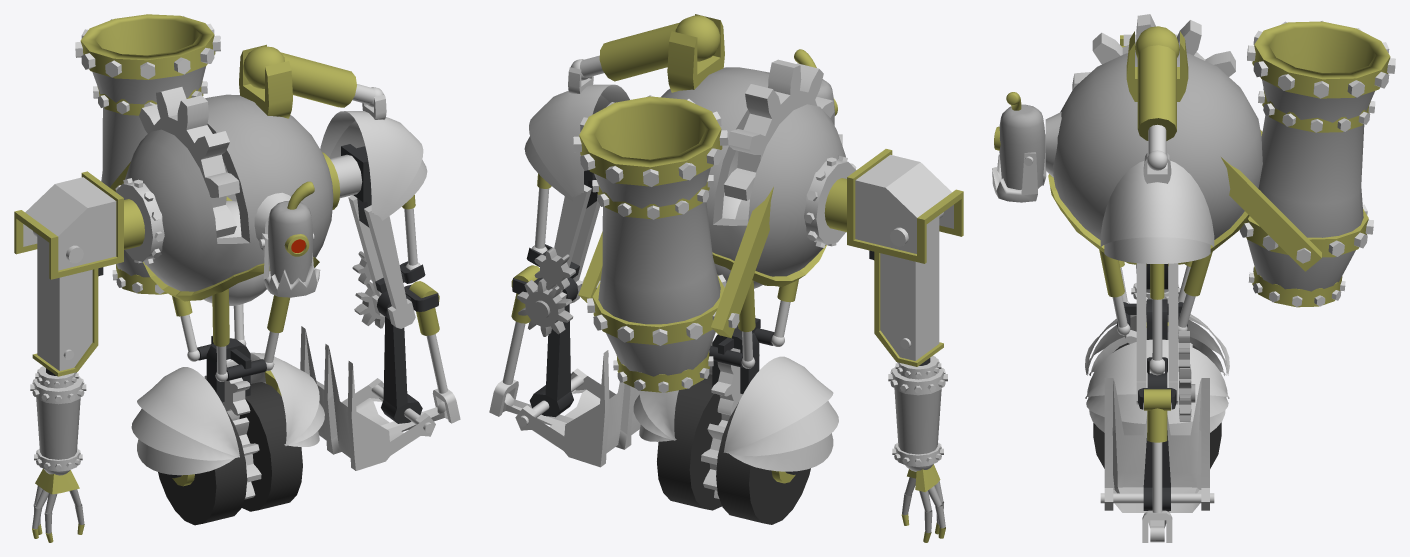
The model's file is Excavator.fbx.
The picture shows the model from 3 angles, left to right: view 1: azimuth 30°, elevation 25°; view 2: azimuth 150°, elevation 25°; view 3: azimuth 270°, elevation 25°; orthographic projection. The views are drawn at different scales.
Visible parts, largest first — view 1: polySurface1, pCylinder9 (×3), pSphere3 (×2), polySurface4, pPlane3, pCylinder8, pPlane1, pCylinder15, pSphere8, pCylinder48, pCylinder28 (×3), pCylinder1 (+26 smaller); view 2: pCylinder48, pCylinder9 (×5), polySurface1, pSphere3 (×2), polySurface4, pPlane3, pCylinder8, pPlane1, pCylinder15, pSphere8, pCylinder1, pPlane6 (+23 smaller); view 3: polySurface1, pCylinder48, pCylinder9 (×4), polySurface4, pSphere8, pCylinder28 (×3), pSphere3 (×2), pCylinder49, pPlane6, pCube7, pSphere2 (×2), pSphere7 (+18 smaller).
Boxes of the visible parts, x1,y1,x2,y2 form: polySurface1: [125, 94, 333, 291]; pCylinder9 (×3): [80, 14, 215, 294]; pSphere3 (×2): [137, 352, 319, 457]; polySurface4: [300, 326, 448, 470]; pPlane3: [23, 177, 116, 270]; pCylinder8: [139, 87, 239, 238]; pPlane1: [37, 234, 92, 370]; pCylinder15: [239, 382, 302, 511]; pSphere8: [320, 111, 423, 216]; pCylinder48: [92, 66, 205, 277]; pCylinder28 (×3): [212, 52, 356, 346]; pCylinder1: [158, 411, 247, 525]; pCylinder48: [594, 167, 720, 376]; pCylinder9 (×5): [579, 96, 856, 392]; polySurface1: [661, 67, 845, 276]; pSphere3 (×2): [639, 341, 833, 452]; polySurface4: [502, 350, 640, 467]; pPlane3: [855, 154, 953, 253]; pCylinder8: [723, 59, 834, 219]; pPlane1: [880, 215, 939, 360]; pCylinder15: [657, 374, 721, 510]; pSphere8: [529, 84, 629, 197]; pCylinder1: [716, 402, 810, 524]; pPlane6: [578, 186, 773, 338]; polySurface1: [1053, 52, 1262, 239]; pCylinder48: [1247, 79, 1374, 291]; pCylinder9 (×4): [1245, 21, 1390, 307]; polySurface4: [1104, 378, 1209, 542]; pSphere8: [1100, 160, 1214, 246]; pCylinder28 (×3): [1099, 45, 1212, 297]; pSphere3 (×2): [1085, 314, 1229, 398]; pCylinder49: [999, 104, 1045, 189]; pPlane6: [1221, 130, 1321, 271]; pCube7: [1136, 263, 1178, 404]; pSphere2 (×2): [1086, 315, 1228, 423]; pSphere7: [1104, 237, 1210, 263].
Size of the model in its own units: 44.3 by 45.55 by 35.98.
